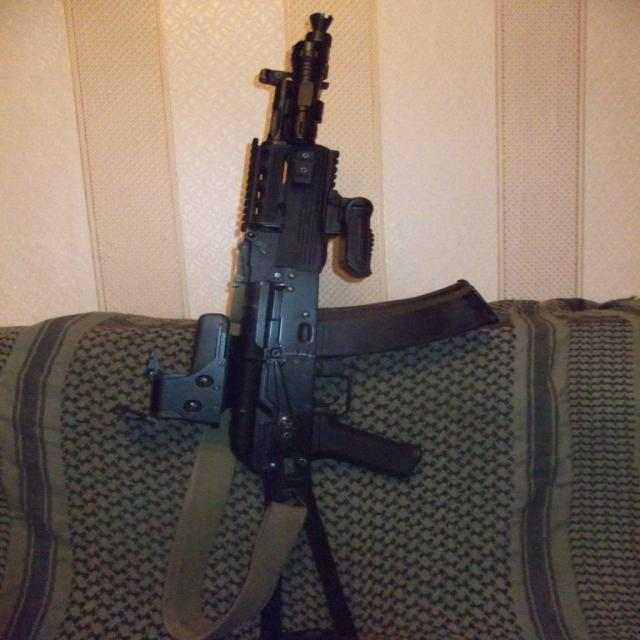firearm: (145, 9, 504, 640)
